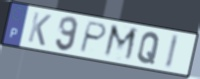9: (55, 15, 80, 53)
I: (163, 33, 181, 71)
K: (26, 11, 53, 48)
M: (101, 22, 140, 64)
P: (78, 20, 109, 55)
Q: (136, 31, 162, 66)
